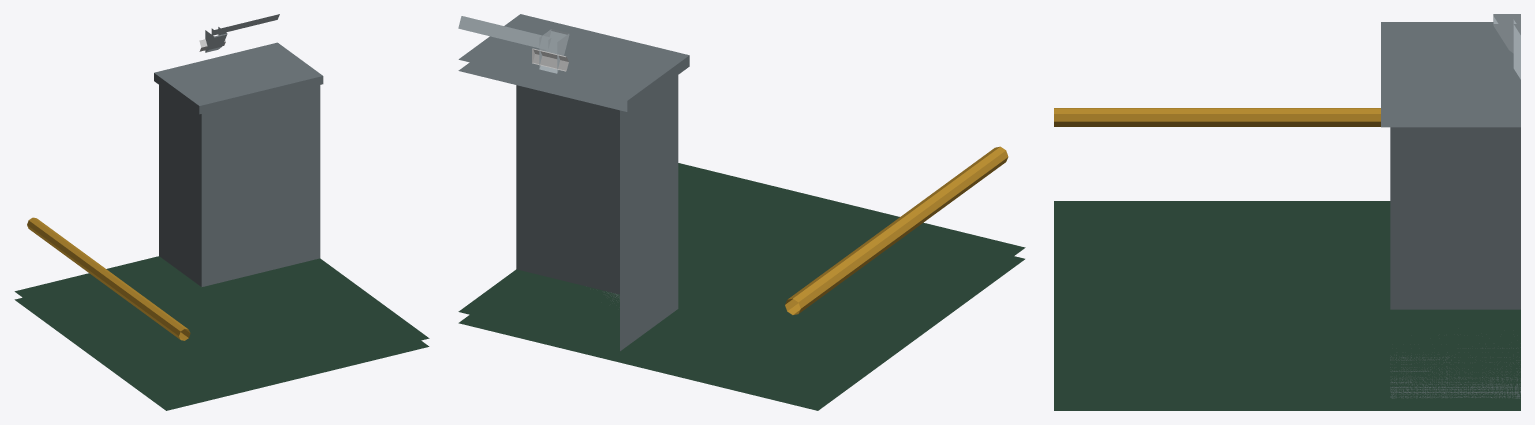
The model's file is cell_10.obj.
The picture shows the model from 3 angles, left to right: view 1: azimuth 30°, elevation 25°; view 2: azimuth 150°, elevation 25°; view 3: azimuth 270°, elevation 25°; orthographic projection. The views are drawn at different scales.
Size of the model in its own units: 1 by 0.81 by 1.
